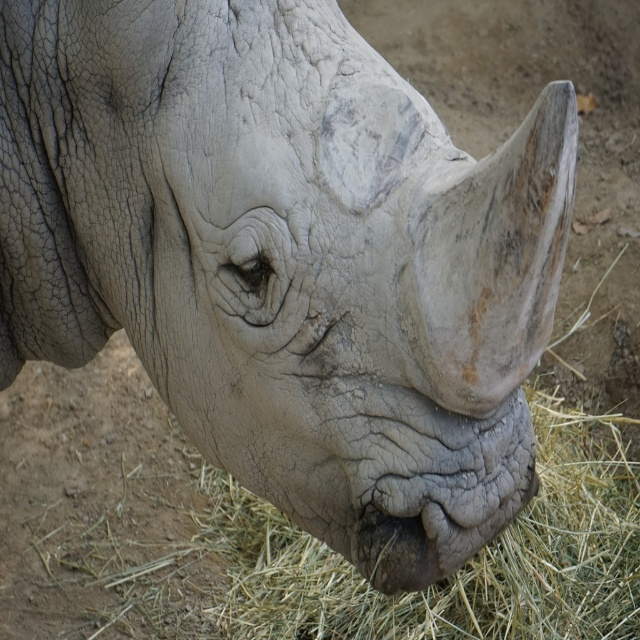Rhinoceros: (0, 0, 584, 593)
